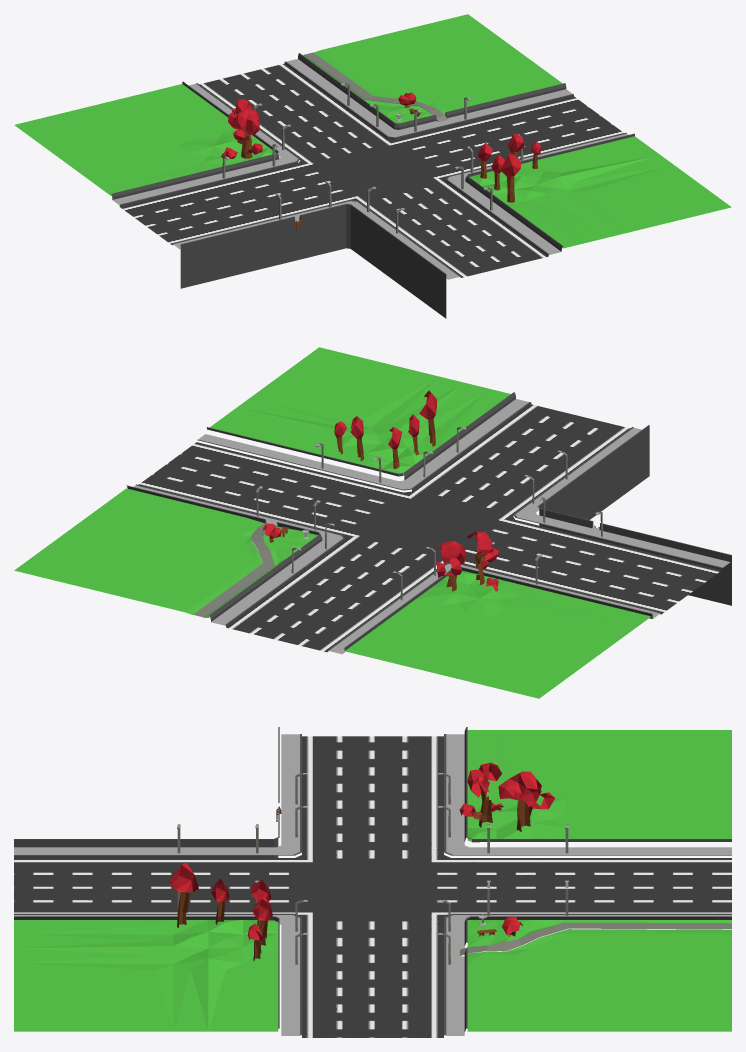
Rendered from map4.fbx.
3 views of the same model, one above another, from view 1: azimuth 30°, elevation 25°; view 2: azimuth 150°, elevation 25°; view 3: azimuth 270°, elevation 25° (orthographic). The views are drawn at different scales.
Parts seen in each view (by area): view 1: Circle; view 2: Circle; view 3: Circle.
Part boxes in pixels (x1,y1,x2,y2): Circle: (14, 14, 731, 318); Circle: (14, 347, 731, 698); Circle: (14, 727, 731, 1037).
Bounding box in the file's own units: 7342 × 1358 × 7391.
